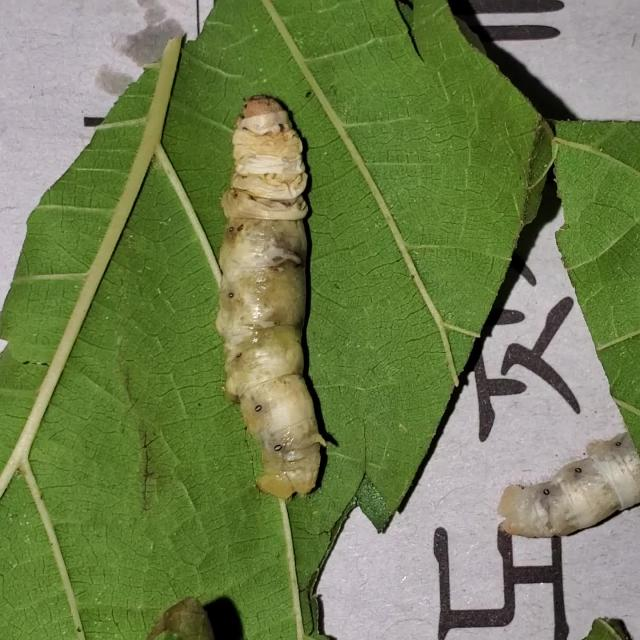Grasserie: (180, 48, 378, 524)
